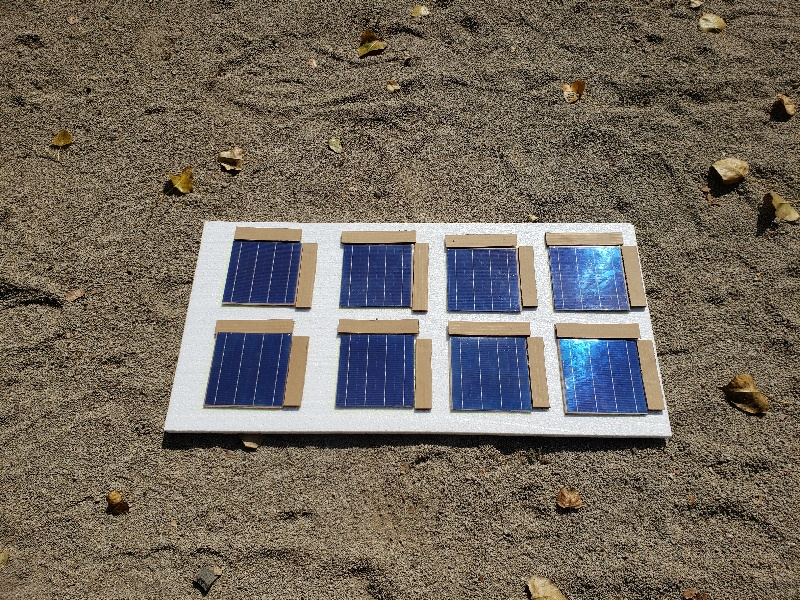clean: (557, 338, 650, 416), (203, 331, 288, 410), (339, 332, 417, 413), (449, 334, 532, 410), (221, 240, 301, 309), (444, 245, 525, 313), (340, 242, 413, 309)
